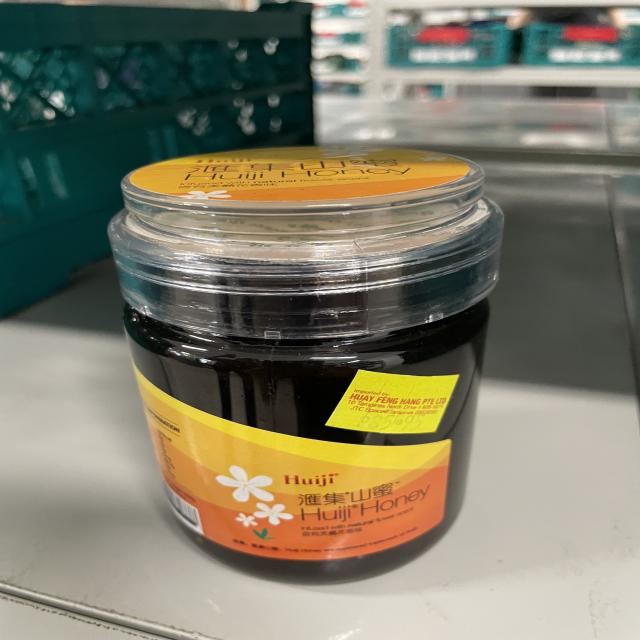object_name: (110, 155, 504, 585)
